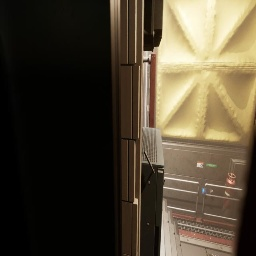NitrogenTank ,: (222, 173, 236, 222)
